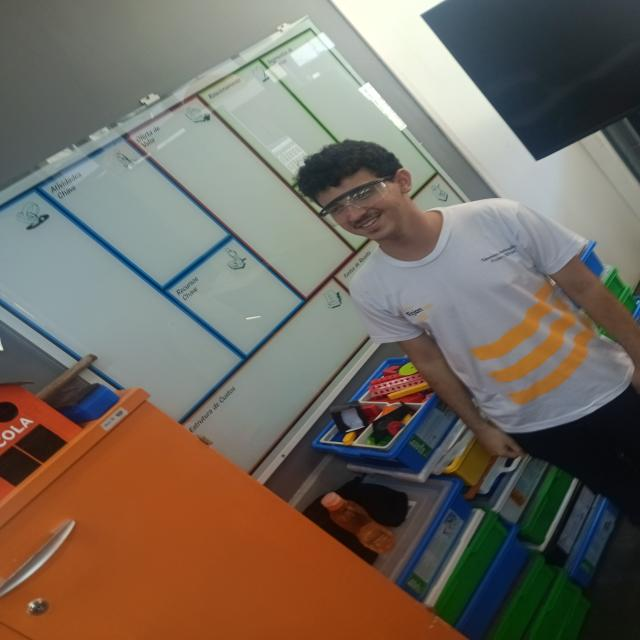oculos-epi: (320, 177, 392, 227)
